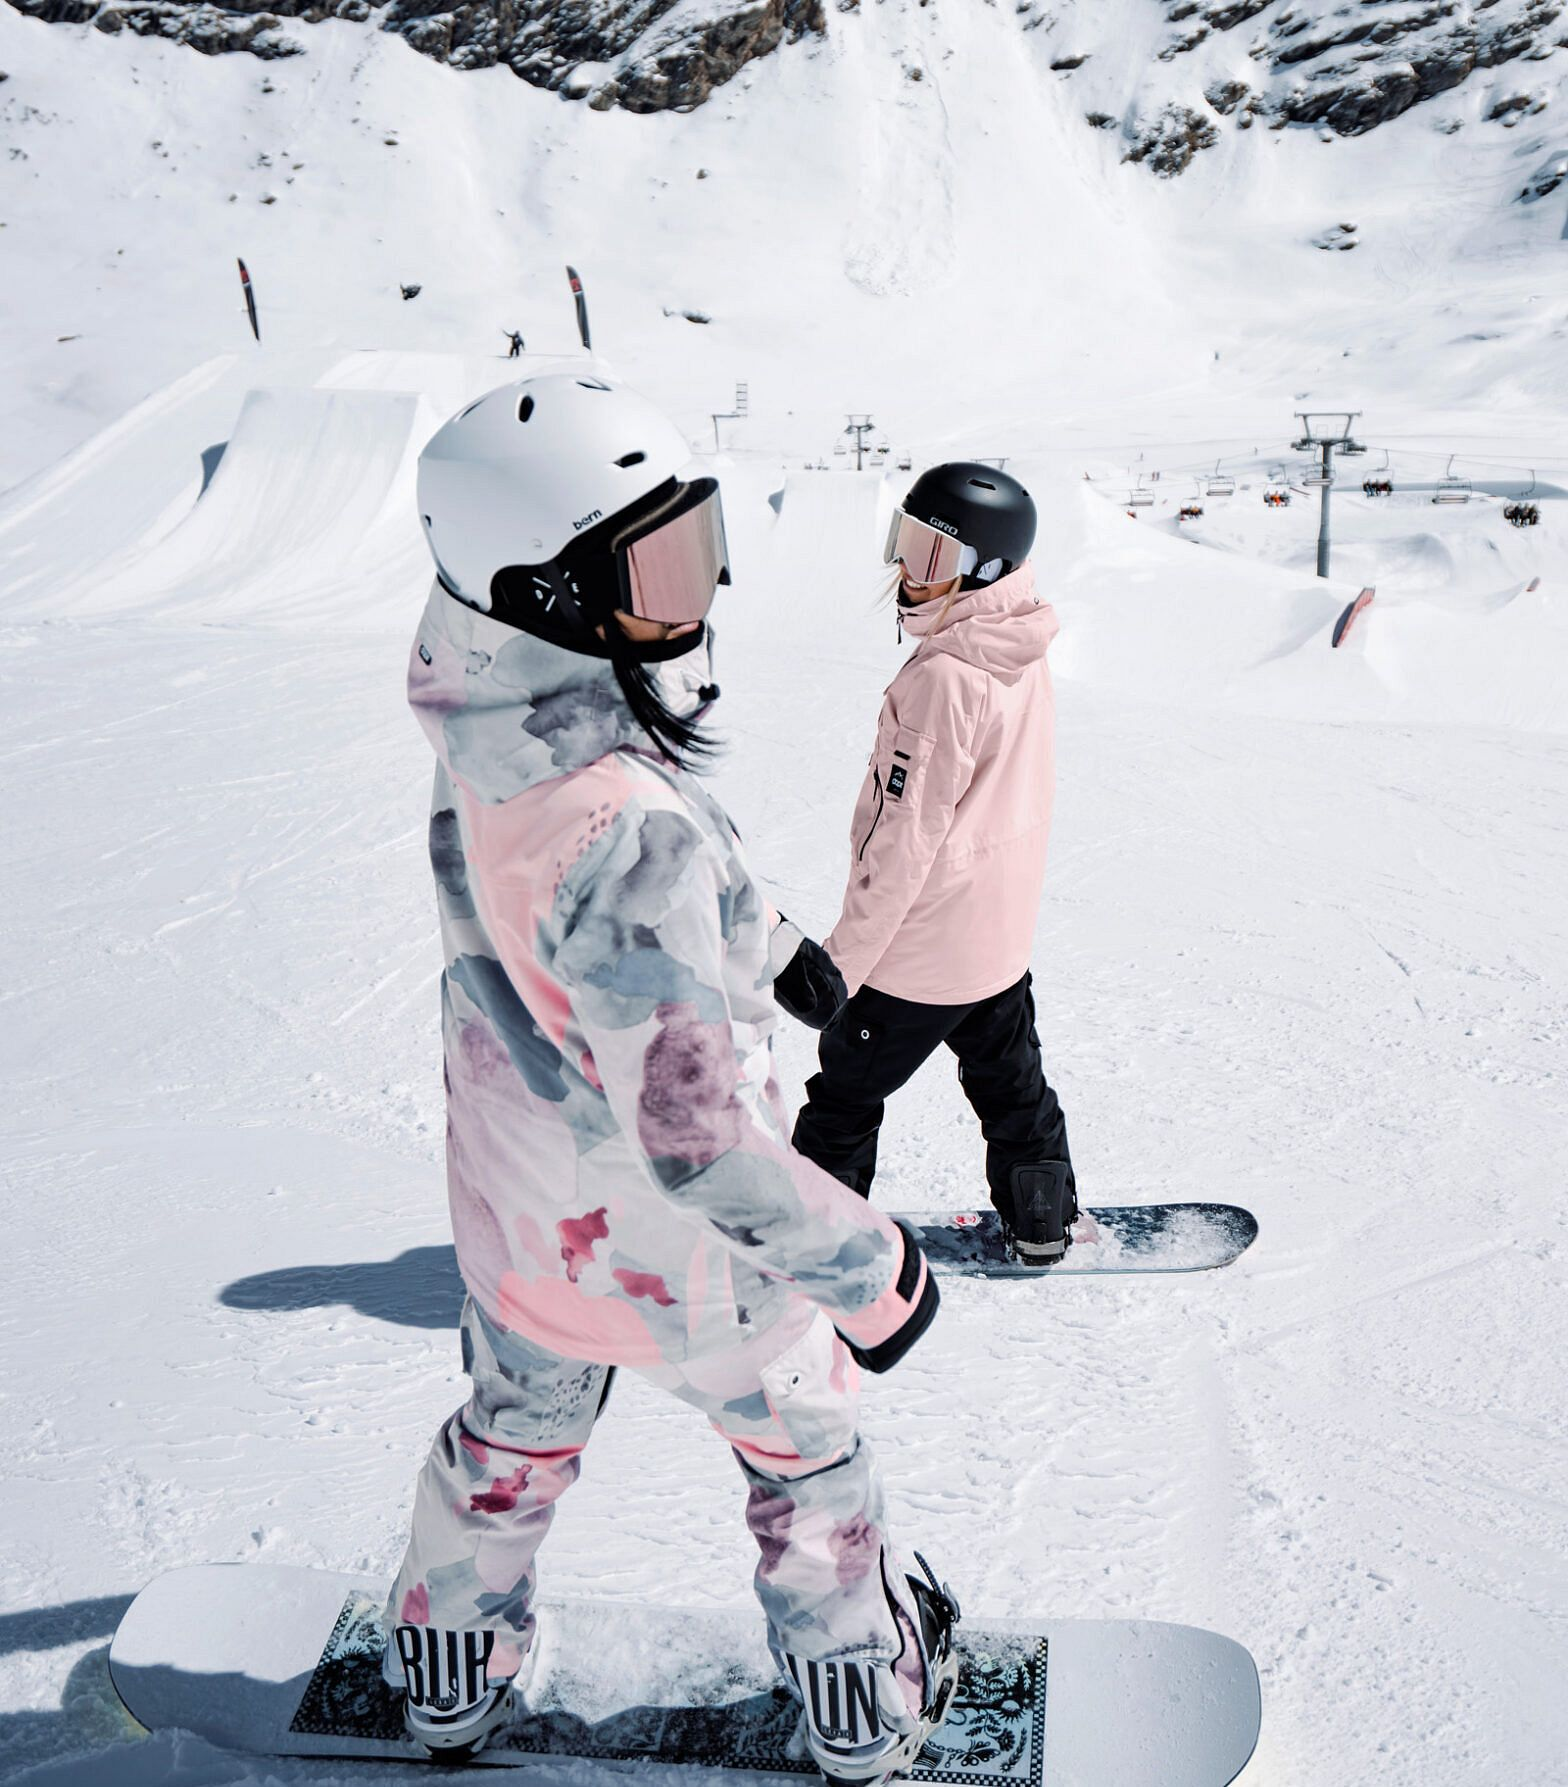snowboarder: (343, 363, 1264, 1781)
